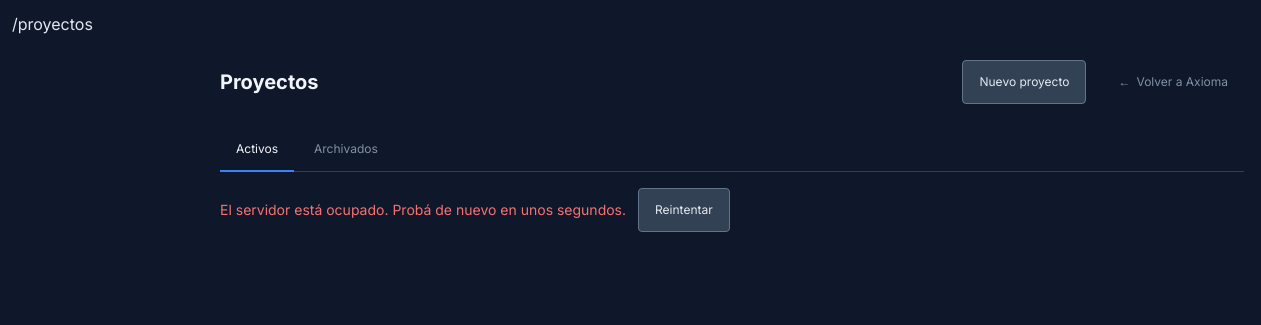
Test: Proyectos › si la carga falla muestra el error traducido y reintenta
Expected: the text "El servidor está ocupado. Probá de nuevo en unos segundos." is shown, [220, 200, 626, 220]
Click the button "Reintentar" at (684, 210), box [638, 188, 730, 232]
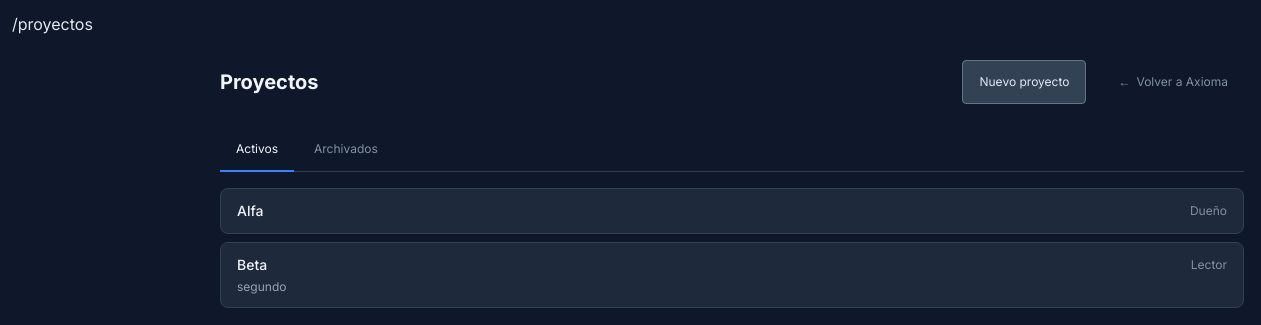
Now the text "Alfa" is shown, box [237, 201, 264, 221]
